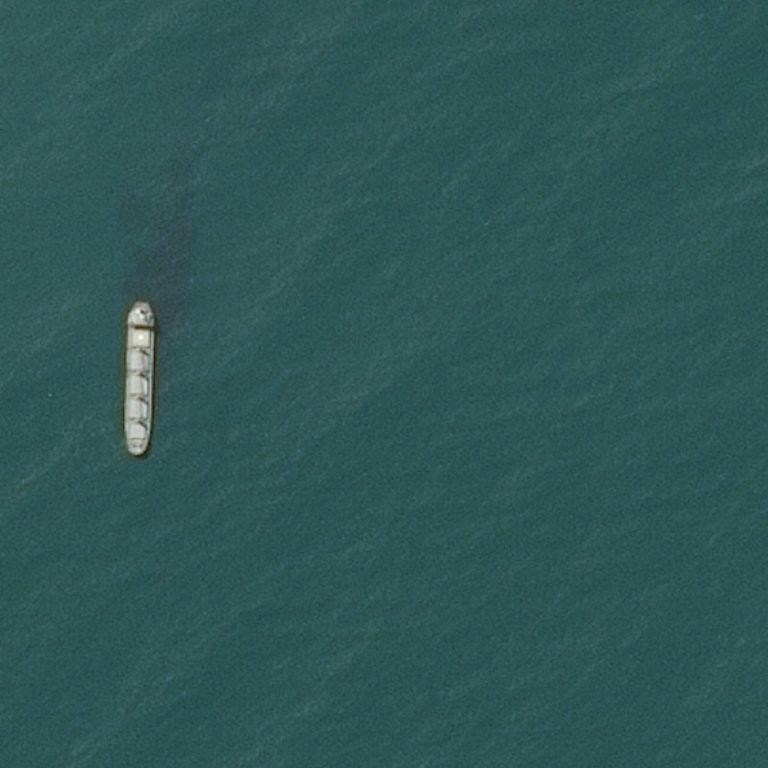ship: (43, 297, 85, 457), (127, 299, 140, 308), (131, 448, 143, 456), (148, 70, 153, 82)
